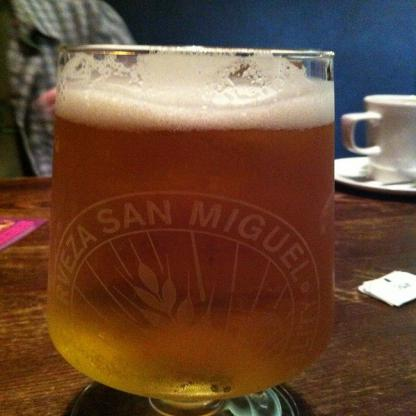drinking: (46, 43, 337, 415)
